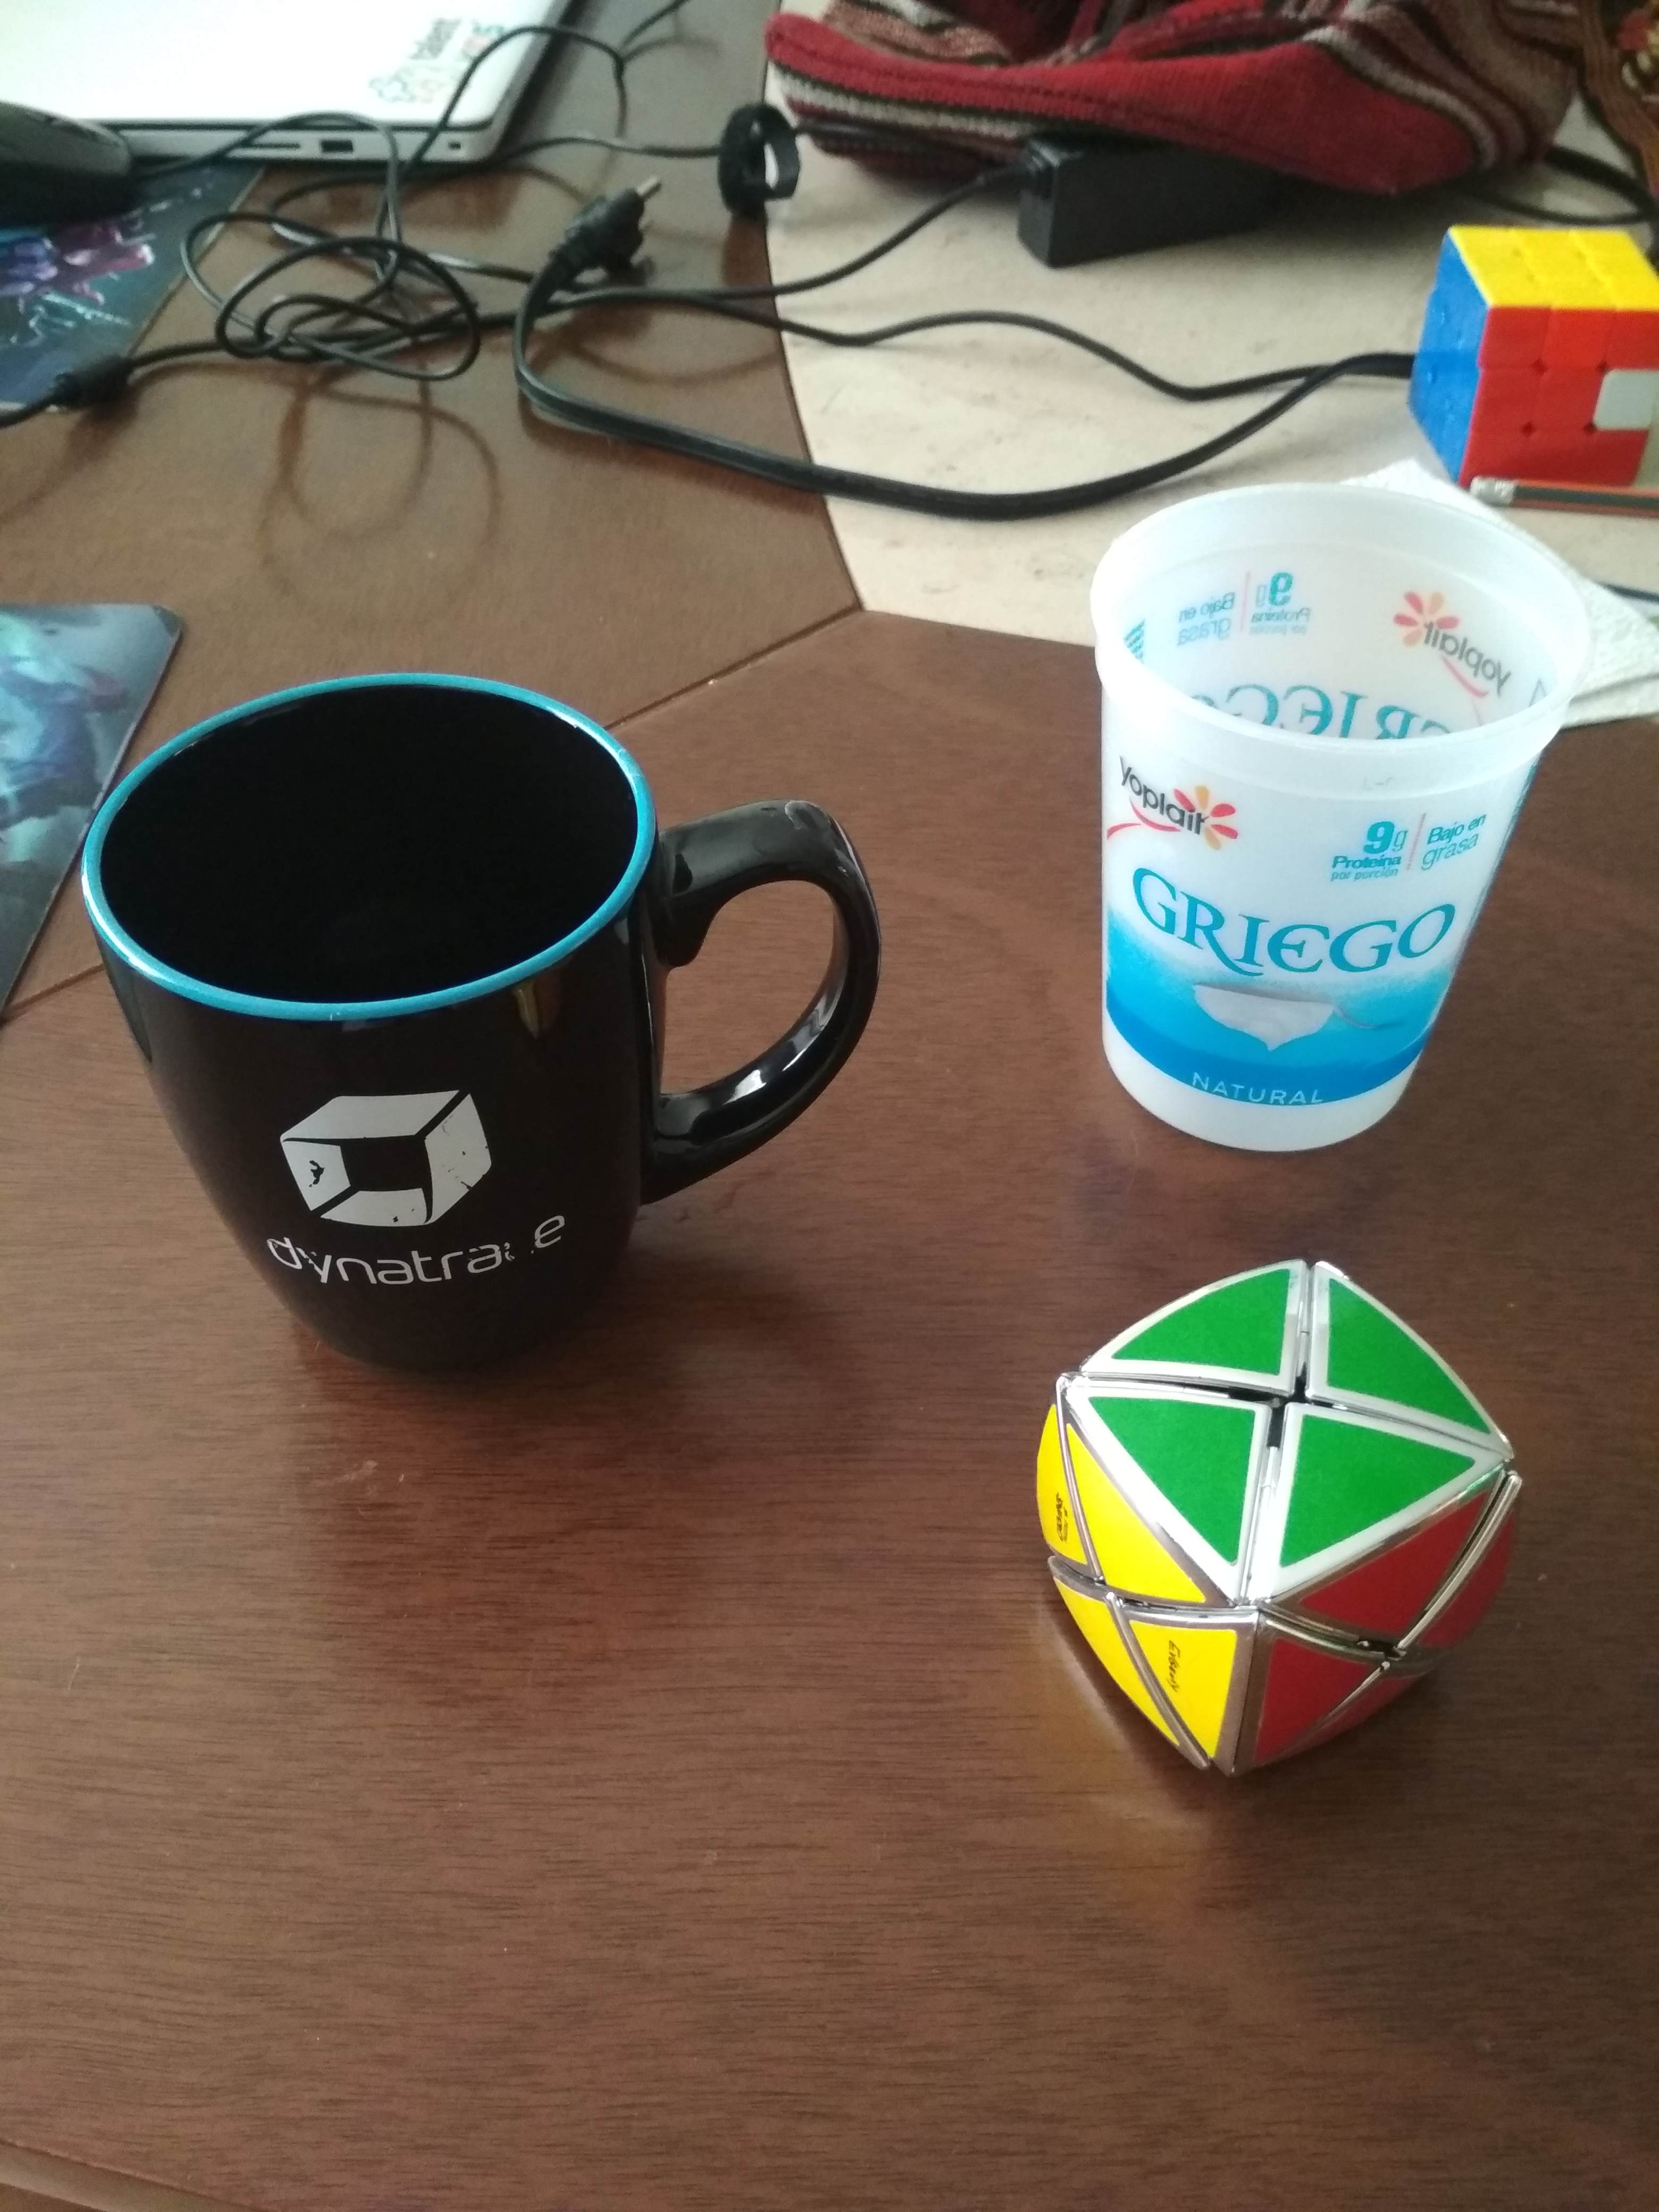cup: (56, 655, 906, 1418)
glass: (1077, 469, 1582, 1170)
rubik_cube: (1009, 1242, 1551, 1815), (1394, 206, 1657, 507)
